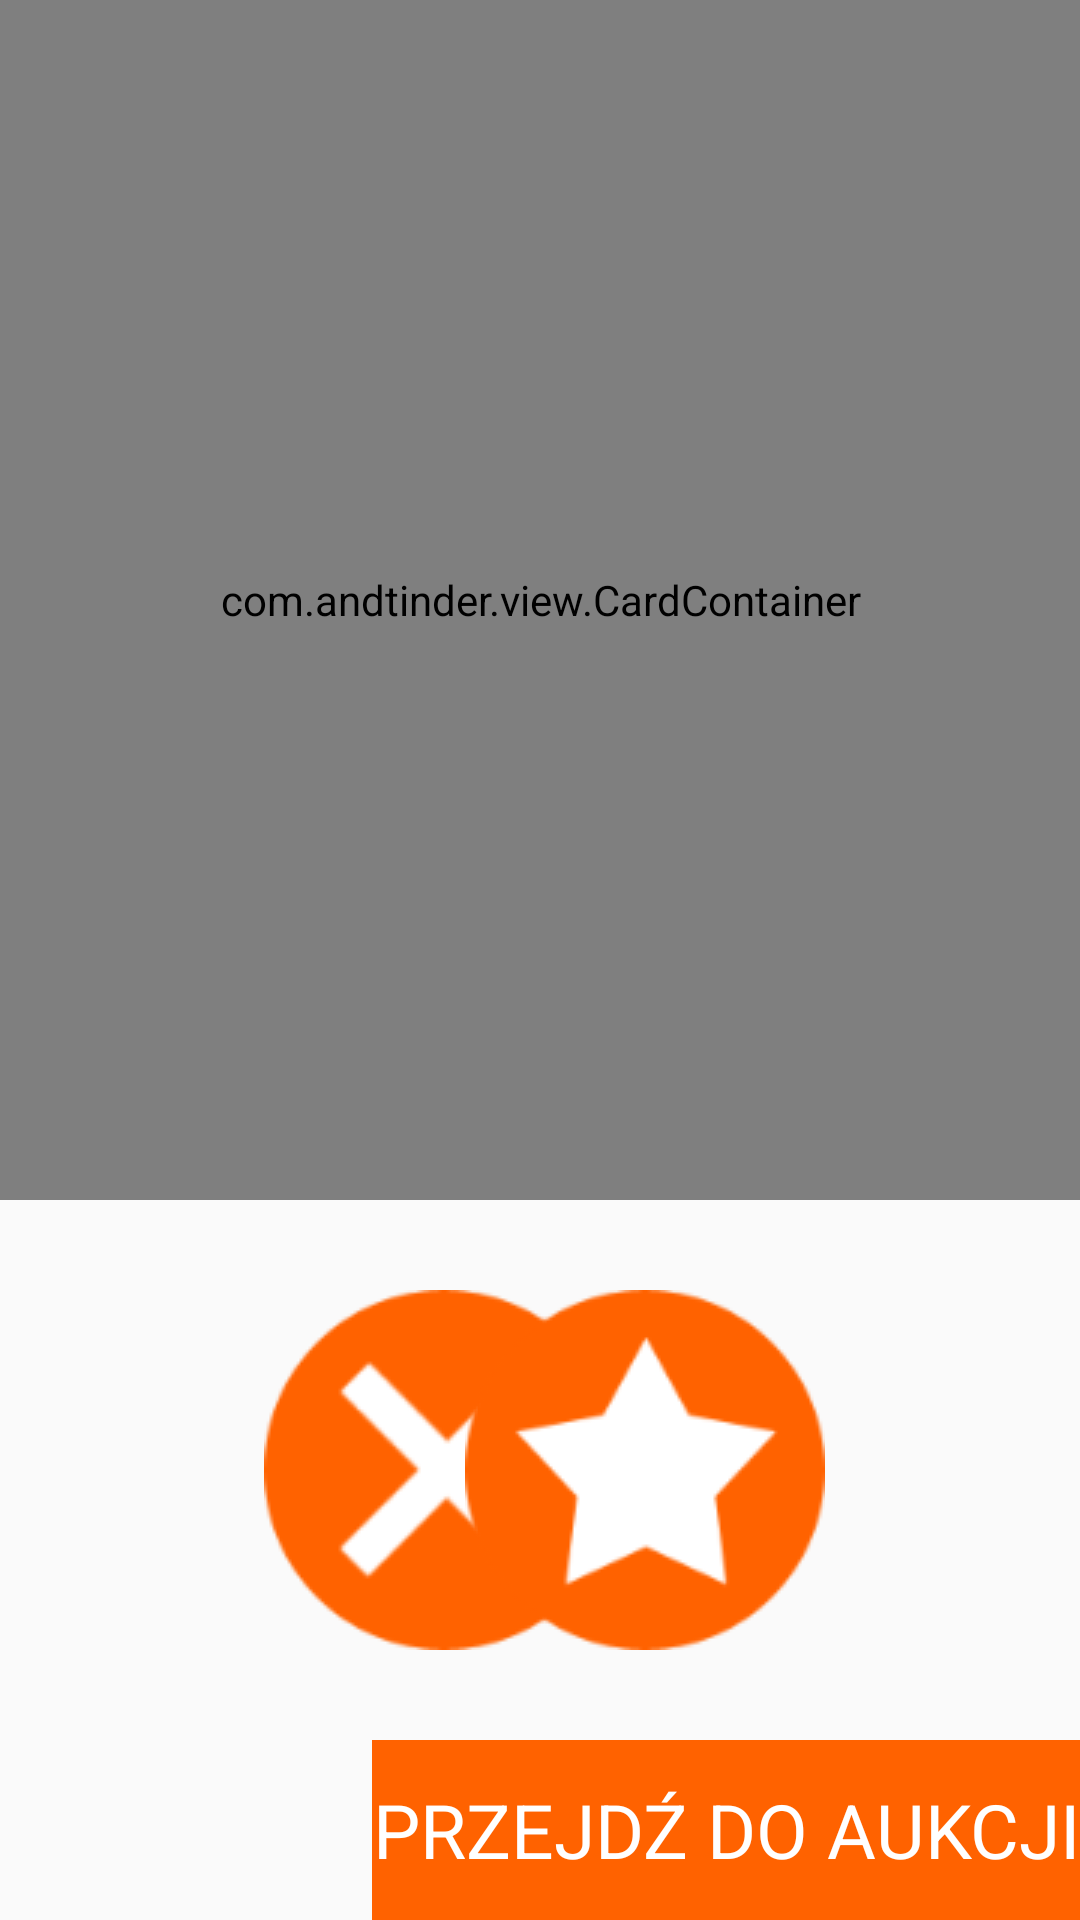

Locate icon controls on the screen. Image size 1080 × 1920, boxes as (x1, y1, x2, y2).
like utton: (465, 1290, 825, 1650)
